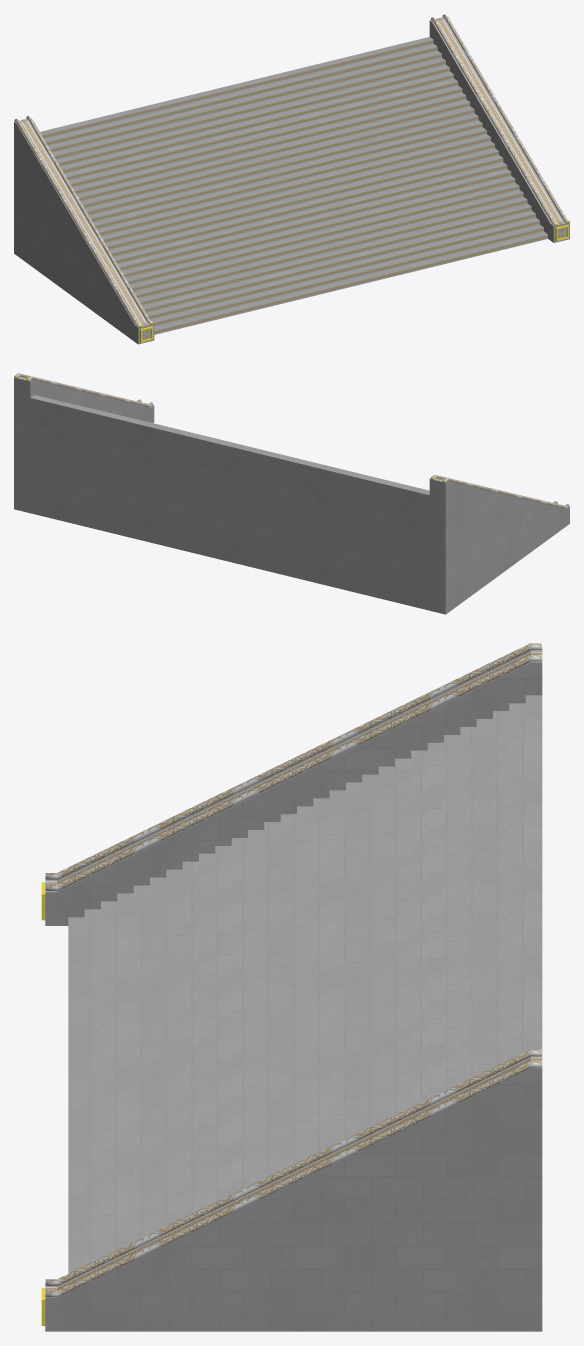
File: SM_stair_02.glb
3 renders of one model, top to bottom at view 1: azimuth 30°, elevation 25°; view 2: azimuth 150°, elevation 25°; view 3: azimuth 270°, elevation 25°, orthographic. The views are drawn at different scales.
Visible parts, largest first — view 1: SM_stair_02; view 2: SM_stair_02; view 3: SM_stair_02.
Part boxes in pixels (x1=…): SM_stair_02: x1=14, y1=14, x2=569, y2=344; SM_stair_02: x1=14, y1=373, x2=569, y2=614; SM_stair_02: x1=41, y1=643, x2=542, y2=1331.
Size of the model in its own units: 19.58 by 5.82 by 9.83.
Materials: 3 (3 with a texture image).
